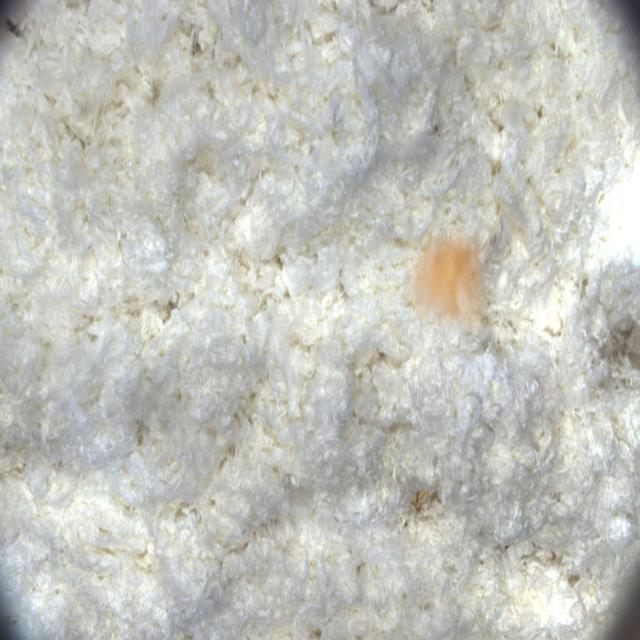dust: (404, 223, 494, 334)
